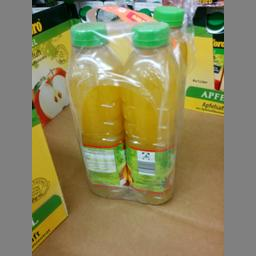juice: (66, 20, 126, 194), (118, 23, 176, 201)
